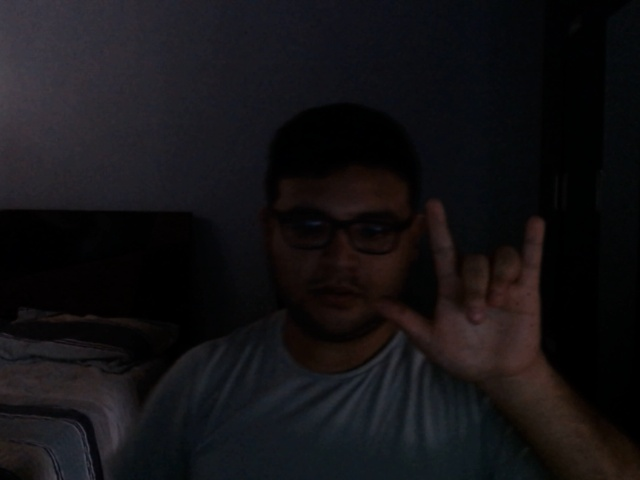I love you: (369, 196, 556, 395)
